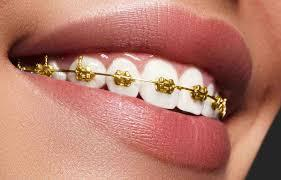Braces: (18, 54, 247, 120)
